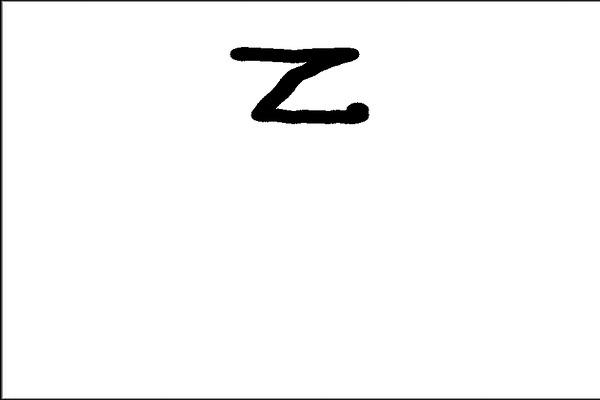Z: (218, 31, 373, 132)
